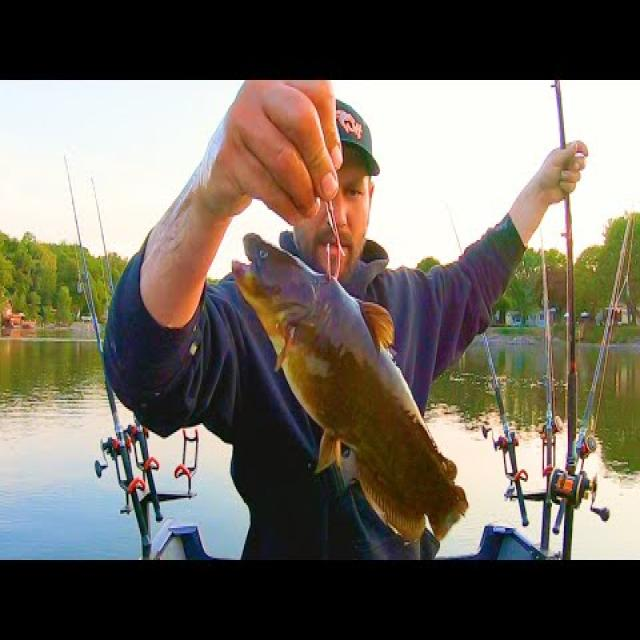Catfish - Flathead: (232, 235, 468, 541)
